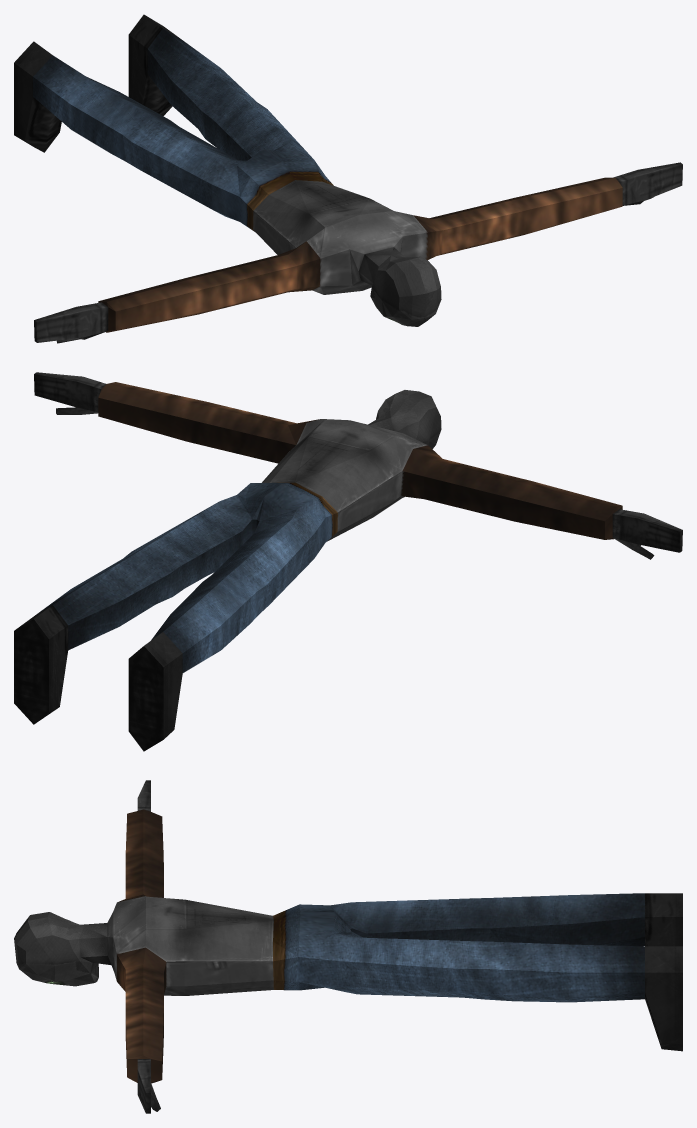
The model's file is terrorist_orig_wtf.obj.
The picture shows the model from 3 angles, top to bottom: view 1: azimuth 30°, elevation 25°; view 2: azimuth 150°, elevation 25°; view 3: azimuth 270°, elevation 25°; orthographic projection.
Parts seen in each view (by area): view 1: group1; view 2: group1; view 3: group1.
Part boxes in pixels (<box>): group1: <box>14,14,682,343</box>; group1: <box>14,372,682,751</box>; group1: <box>14,780,682,1113</box>.
Bounding box in the file's own units: 660 × 114 × 597.
